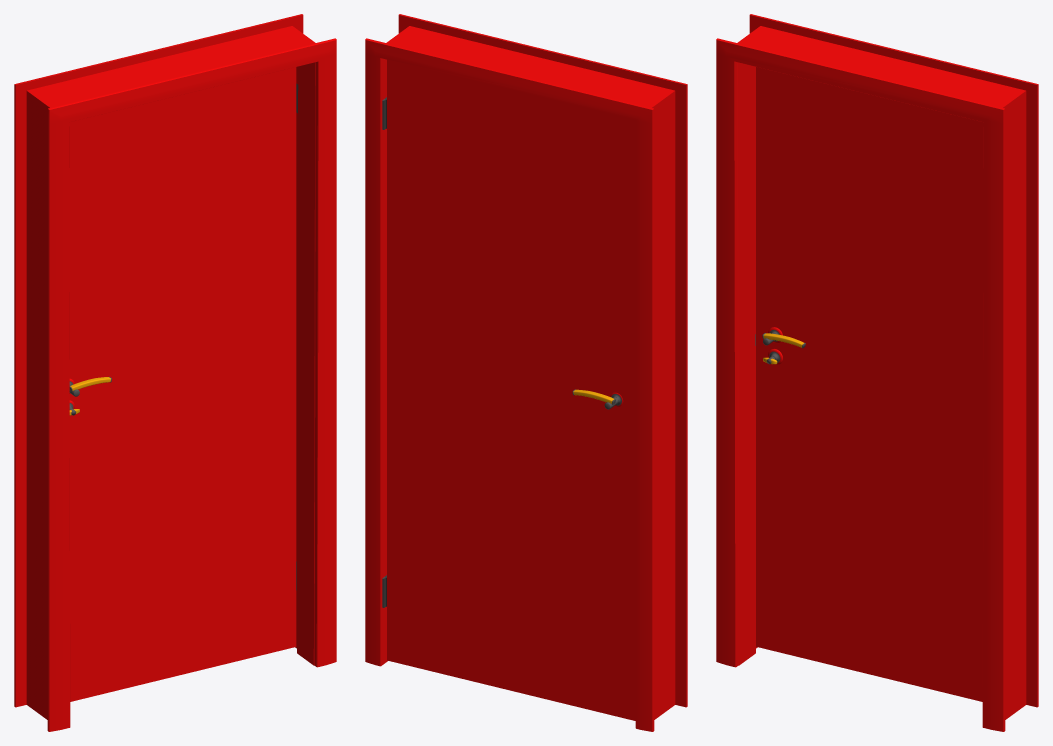
Rendered from door.FBX.
3 renders of one model, left to right at view 1: azimuth 30°, elevation 25°; view 2: azimuth 150°, elevation 25°; view 3: azimuth 330°, elevation 25°, orthographic.
Parts seen in each view (by area): view 1: Door, Box001; view 2: Door, Box001; view 3: Door, Box001.
Boxes of the visible parts, box(x1,y1,x2,y2) form: Door: box(69, 67, 296, 701); Box001: box(14, 14, 336, 731); Door: box(383, 59, 635, 720); Box001: box(365, 14, 687, 731); Door: box(756, 67, 983, 701); Box001: box(716, 14, 1038, 731).
Bounding box in the file's own units: 40.94 × 84.58 × 10.48.
